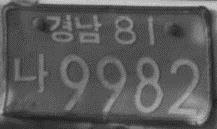1: (145, 15, 157, 46)
2: (166, 57, 202, 118)
8: (132, 56, 164, 115), (113, 15, 137, 47)
9: (95, 53, 128, 115), (57, 52, 91, 112)
경남_O: (45, 14, 103, 45)
나: (12, 52, 50, 94)
